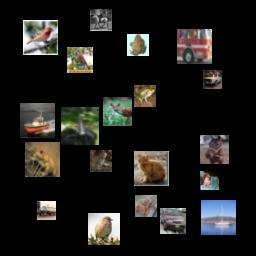automobile: (160, 208, 186, 234), (203, 70, 222, 89)
bird: (61, 107, 99, 145), (23, 20, 58, 55), (88, 213, 120, 245), (67, 47, 93, 73)
cat: (134, 151, 169, 186)
deer: (103, 97, 132, 126), (135, 195, 157, 217)
dog: (200, 171, 219, 190)
frog: (25, 142, 60, 177), (134, 85, 156, 107), (127, 34, 149, 56), (90, 150, 112, 172)
ship: (20, 103, 55, 138), (201, 200, 236, 235)
truck: (177, 29, 212, 64), (37, 201, 56, 220)
